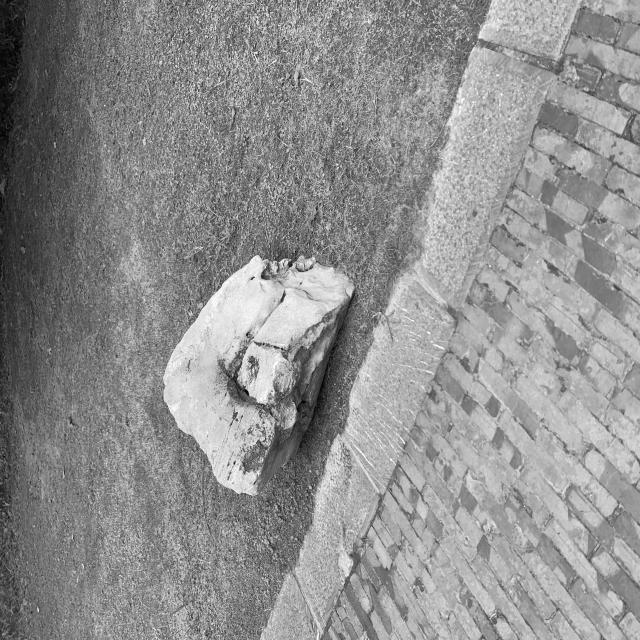Stone: (164, 258, 354, 494)
